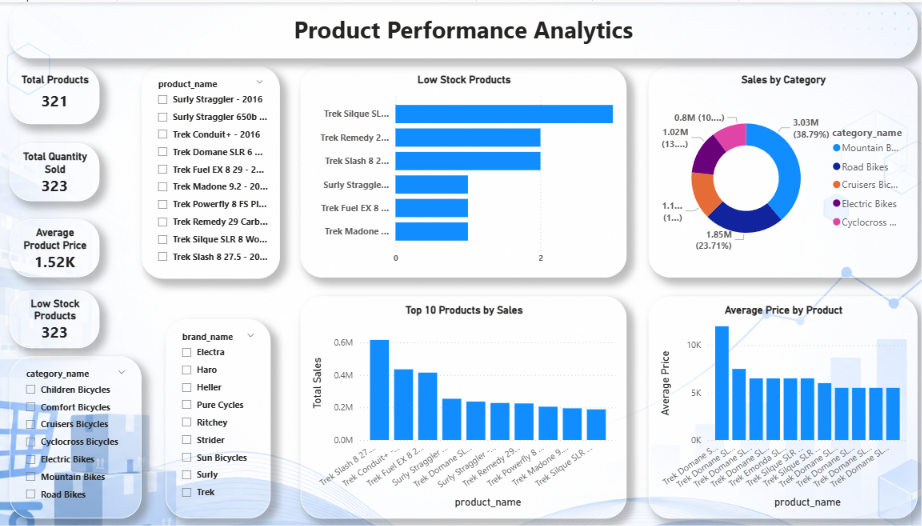

The page's visual inventory and layout, read from the dashboard file:
{"tool":"powerbi","page":{"name":"Product Analytics","canvas":[1280,720],"ordinal":2},"visuals":[{"type":"card","title":"Average Product Price","fields":{"Values":["customer_segments.Average Price"]},"box":[16.5,297.8,123.5,79.6],"z":0},{"type":"card","title":"Total Quantity Sold","fields":{"Values":["customer_segments.Total   Quantity Sold"]},"box":[16.5,193.5,123.5,79.6],"z":1000},{"type":"card","title":"Low Stock Products","fields":{"Values":["customer_segments.Total   Quantity Sold"]},"box":[16.5,395.2,123.5,79.6],"z":2000},{"type":"card","title":"Total Products","fields":{"Values":["customer_segments.Total Product"]},"box":[16.5,87.8,123.5,79.6],"z":3000},{"type":"clusteredColumnChart","title":"Top 10 Products by Sales","fields":{"Category":["products.product_name"],"Y":["customer_segments.Total Sales"]},"box":[415.8,403.4,447.3,304.6],"z":4000},{"type":"donutChart","title":"Sales by Category","fields":{"Category":["categories.category_name"],"Y":["customer_segments.Total Sales"]},"box":[893.3,87.8,369.1,289.5],"z":5000},{"type":"clusteredBarChart","title":"Low Stock Products","fields":{"Category":["products.product_name"],"Y":["customer_segments.Low Stock Products"]},"box":[415.8,87.8,447.3,289.5],"z":6000},{"type":"columnChart","title":"Average Price by Product","fields":{"Category":["products.product_name"],"Y":["customer_segments.Average Price"]},"box":[893.3,403.4,369.1,304.6],"z":7000},{"type":"slicer","fields":{"Values":["categories.category_name"]},"box":[16.5,485.8,181.1,222.3],"z":8000},{"type":"slicer","fields":{"Values":["products.product_name"]},"box":[197.6,87.8,189.4,290.9],"z":9000},{"type":"slicer","fields":{"Values":["brands.brand_name"]},"box":[230.5,435,144.1,273.1],"z":10000},{"type":"textbox","box":[16.5,0,1246,76.8],"z":11000}]}

Visuals, with their boxes in screenshot pixels (x1, y1, x2, y2), scaled from the page's 1280x720 canvas onto the 922x526 screenshot:
"Average Product Price" card: left=12, top=218, right=101, bottom=276
"Total Quantity Sold" card: left=12, top=141, right=101, bottom=200
"Low Stock Products" card: left=12, top=289, right=101, bottom=347
"Total Products" card: left=12, top=64, right=101, bottom=122
"Top 10 Products by Sales" clusteredColumnChart: left=300, top=295, right=622, bottom=517
"Sales by Category" donutChart: left=643, top=64, right=909, bottom=276
"Low Stock Products" clusteredBarChart: left=300, top=64, right=622, bottom=276
"Average Price by Product" columnChart: left=643, top=295, right=909, bottom=517
slicer - categories.category_name: left=12, top=355, right=142, bottom=517
slicer - products.product_name: left=142, top=64, right=279, bottom=277
slicer - brands.brand_name: left=166, top=318, right=270, bottom=517
textbox: left=12, top=0, right=909, bottom=56
